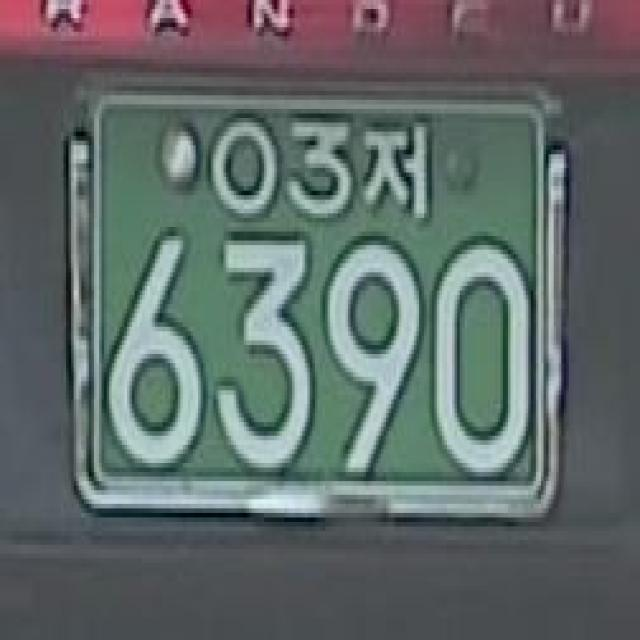illegal_plate: (58, 67, 575, 545)
